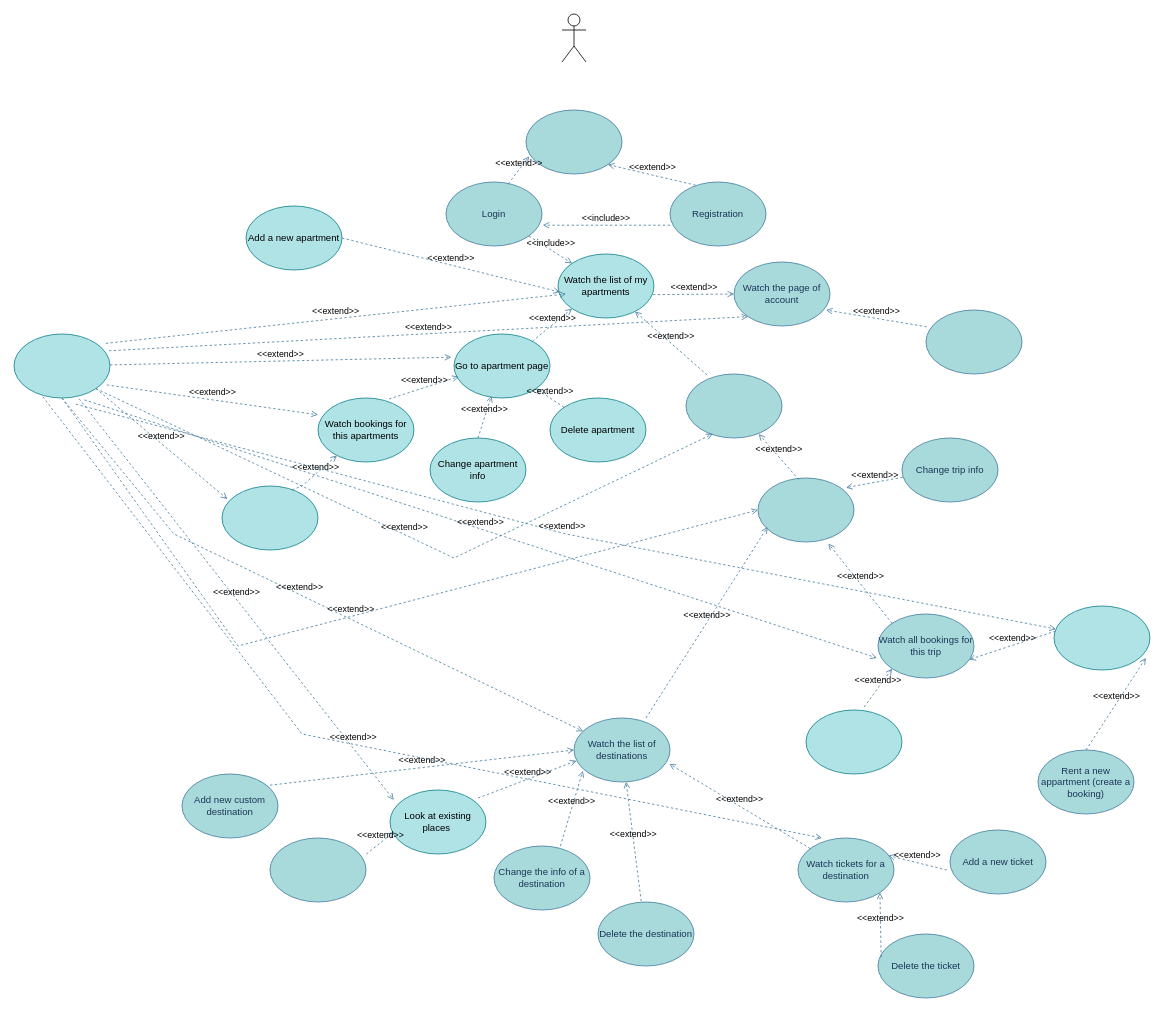
Image size: 1166x1012. Some labels were removed from this diagram. Each missing label, with the centre of its shape:
Add existing place to destinations: point (317, 869)
Change user info: point (973, 341)
Enter the trip info page: point (805, 509)
Host: point (573, 37)
Log out: point (61, 365)
Watch apartments to rent: point (1101, 637)
Watch hosts info: point (853, 741)
Watch the list of trips: point (733, 405)
Watch the start page: point (573, 141)
Watch user's who rented appartments info: point (269, 517)
